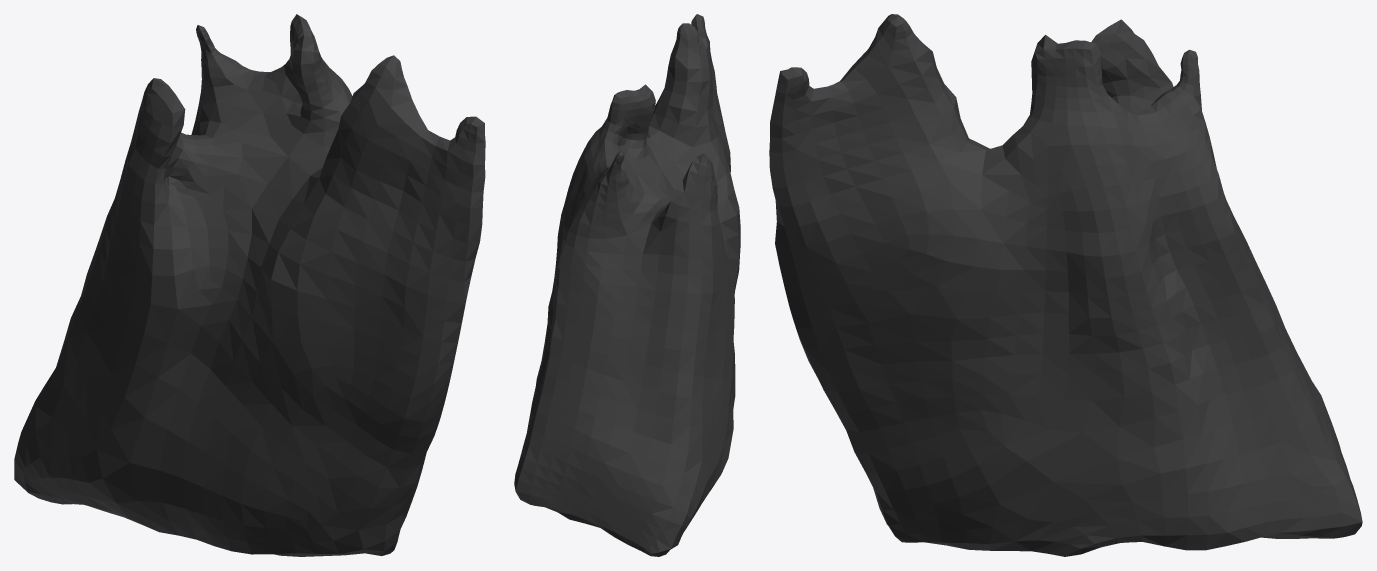
File: R_max_PM2.glb
3 views of the same model, side by side, from view 1: azimuth 30°, elevation 25°; view 2: azimuth 150°, elevation 25°; view 3: azimuth 270°, elevation 25° (orthographic). The views are drawn at different scales.
Visible parts, largest first — view 1: R_max_PM2; view 2: R_max_PM2; view 3: R_max_PM2.
Boxes of the visible parts, bbox=[...] form: R_max_PM2: bbox=[14, 14, 485, 556]; R_max_PM2: bbox=[514, 14, 740, 556]; R_max_PM2: bbox=[769, 14, 1362, 556].
Bounding box in the file's own units: 0.4251 × 0.8477 × 0.8039.
1 material, 1 textured.
